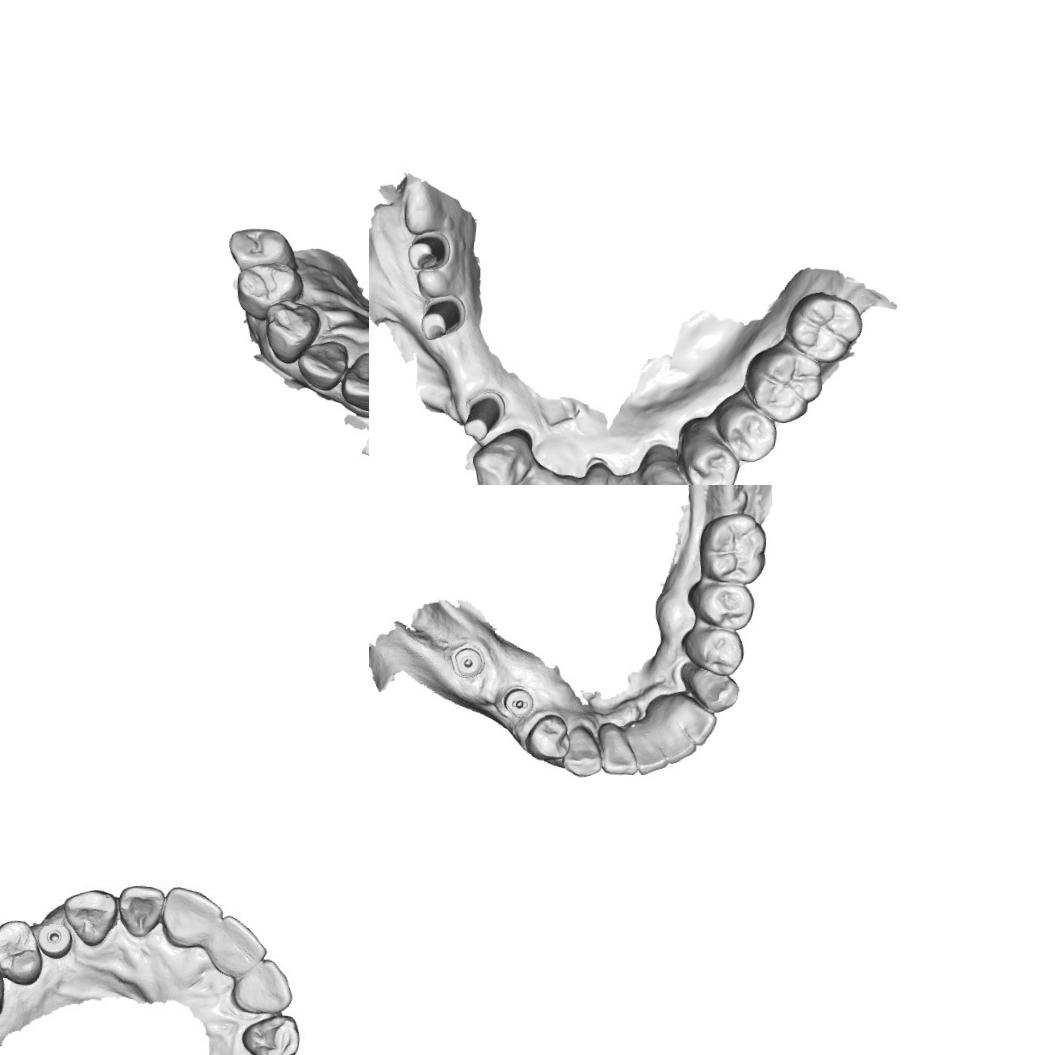abutment: (415, 292, 466, 345), (459, 390, 503, 444), (405, 231, 450, 275)
canine: (261, 296, 322, 366), (60, 884, 116, 949), (469, 428, 531, 485), (237, 1011, 306, 1055), (686, 666, 742, 716), (560, 722, 605, 778), (641, 464, 701, 485)
implant: (448, 644, 486, 680), (38, 922, 74, 958)
implant_minus: (500, 685, 534, 720)
incisor: (228, 951, 301, 1017), (203, 910, 276, 976), (157, 882, 225, 950), (294, 337, 349, 392), (114, 883, 164, 939), (596, 728, 640, 777), (650, 722, 698, 766), (624, 732, 670, 776), (338, 348, 369, 413), (676, 702, 719, 748), (499, 469, 556, 485)
molar: (741, 345, 824, 426), (780, 288, 866, 366), (696, 507, 770, 586)
premolar: (233, 258, 305, 323), (713, 400, 780, 466), (684, 577, 757, 632), (224, 224, 302, 273), (677, 625, 747, 678), (677, 434, 742, 485), (0, 918, 45, 987), (521, 710, 573, 763)
